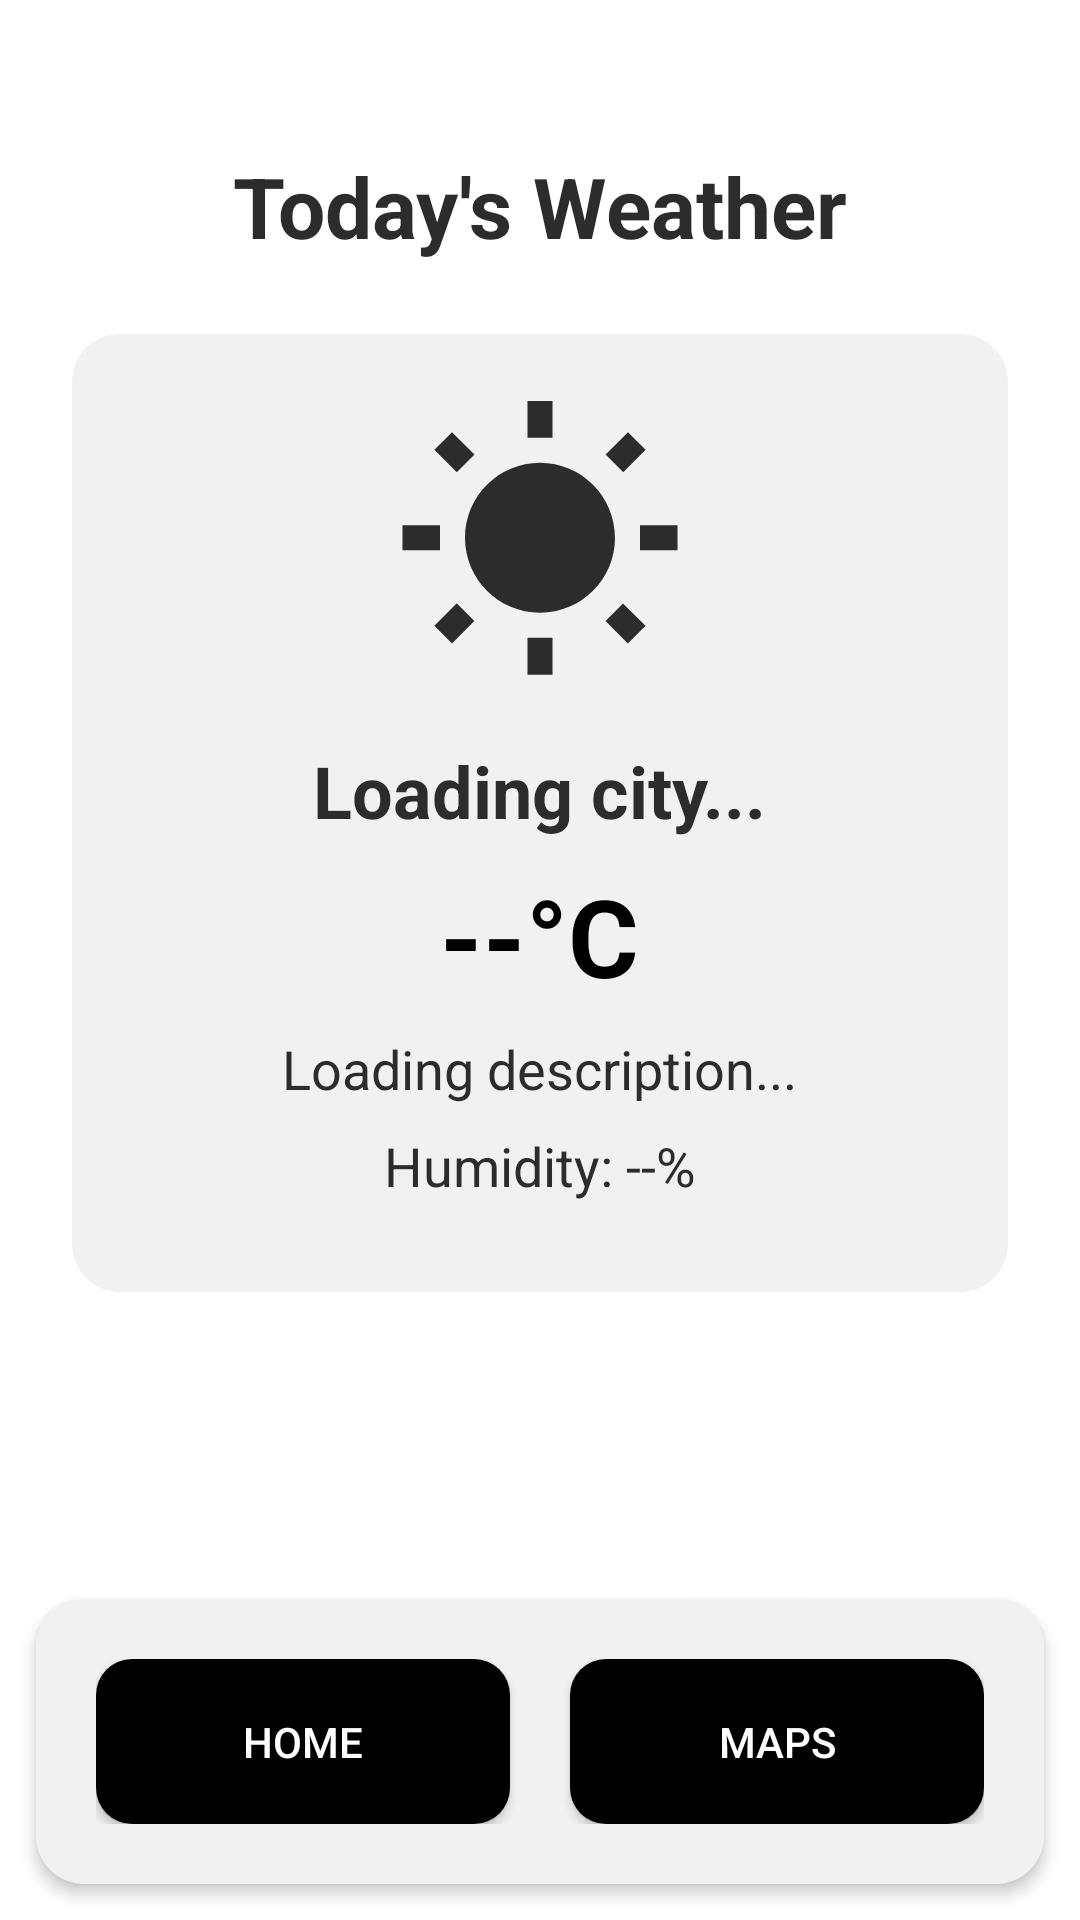

Where icons sit on this 1080×1920 app screen, as BBox(x1, y1, x2, y2):
sunny: BBox(402, 401, 678, 675)
